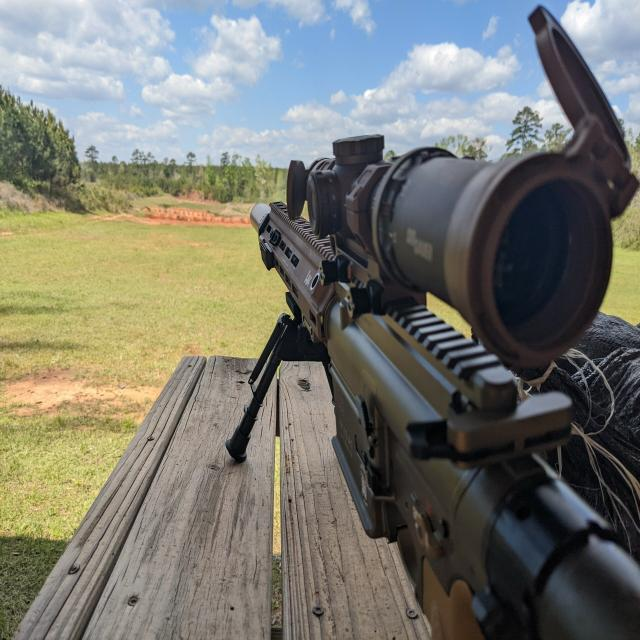scope: (274, 118, 617, 362)
sniper rifle: (223, 5, 635, 634)
